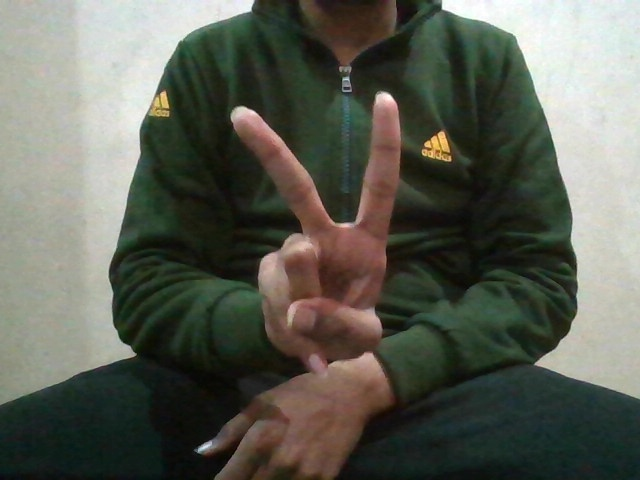V: (225, 91, 430, 371)
